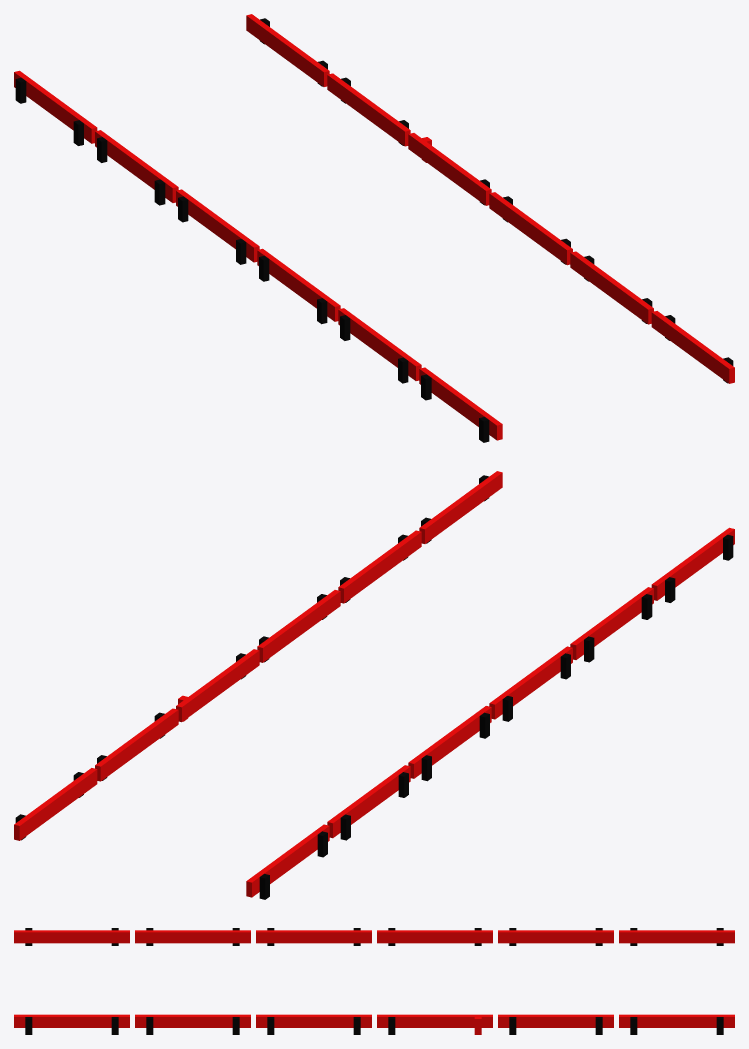
The model's file is HSBC Entorno_10_CAPAS_PATIO fUTBOL.fbx.
The picture shows the model from 3 angles, top to bottom: view 1: azimuth 30°, elevation 25°; view 2: azimuth 150°, elevation 25°; view 3: azimuth 270°, elevation 25°; orthographic projection. The views are drawn at different scales.
Parts seen in each view (by area): view 1: pCube11.003, pCube8.004, pCube9.004, pCube10.004, pCube6, pCube7.001, pCube14.001, pCube15.001, pCube12.002, pCube16.002, pCube13.002, pCube17.002; view 2: pCube6, pCube10.004, pCube9.004, pCube7.001, pCube8.004, pCube11.003, pCube12.002, pCube16.002, pCube14.001, pCube13.002, pCube15.001, pCube17.002; view 3: pCube12.002, pCube13.002, pCube14.001, pCube15.001, pCube16.002, pCube17.002, pCube10.004, pCube11.003, pCube6, pCube7.001, pCube8.004, pCube9.004.
Part boxes in pixels (left/top/right/bottom): pCube11.003: left=419, top=367, right=502, bottom=442; pCube8.004: left=176, top=189, right=259, bottom=264; pCube9.004: left=257, top=248, right=340, bottom=324; pCube10.004: left=338, top=308, right=421, bottom=383; pCube6: left=14, top=70, right=97, bottom=145; pCube7.001: left=95, top=130, right=178, bottom=205; pCube14.001: left=651, top=311, right=734, bottom=383; pCube15.001: left=570, top=251, right=653, bottom=324; pCube12.002: left=246, top=14, right=329, bottom=86; pCube16.002: left=327, top=73, right=410, bottom=146; pCube13.002: left=408, top=133, right=491, bottom=205; pCube17.002: left=489, top=192, right=572, bottom=265; pCube6: left=246, top=824, right=329, bottom=899; pCube10.004: left=570, top=587, right=653, bottom=662; pCube9.004: left=489, top=646, right=572, bottom=721; pCube7.001: left=327, top=765, right=410, bottom=840; pCube8.004: left=408, top=706, right=491, bottom=781; pCube11.003: left=651, top=527, right=734, bottom=602; pCube12.002: left=14, top=768, right=97, bottom=840; pCube16.002: left=95, top=708, right=178, bottom=781; pCube14.001: left=419, top=471, right=502, bottom=543; pCube13.002: left=176, top=649, right=259, bottom=722; pCube15.001: left=338, top=530, right=421, bottom=603; pCube17.002: left=257, top=590, right=340, bottom=662; pCube12.002: left=619, top=1014, right=734, bottom=1034; pCube13.002: left=377, top=1014, right=492, bottom=1034; pCube14.001: left=14, top=1014, right=129, bottom=1034; pCube15.001: left=135, top=1014, right=250, bottom=1034; pCube16.002: left=498, top=1014, right=613, bottom=1034; pCube17.002: left=256, top=1014, right=371, bottom=1034; pCube10.004: left=135, top=928, right=250, bottom=945; pCube11.003: left=14, top=928, right=129, bottom=945; pCube6: left=619, top=928, right=734, bottom=945; pCube7.001: left=498, top=928, right=613, bottom=945; pCube8.004: left=377, top=928, right=492, bottom=945; pCube9.004: left=256, top=928, right=371, bottom=945.
Size of the model in its own units: 680 by 55.7 by 2280.
